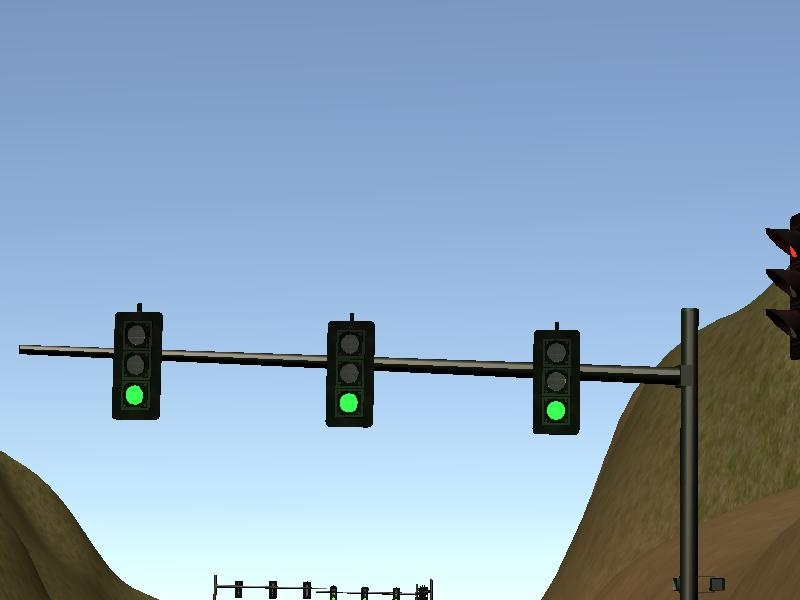green: (112, 312, 162, 420), (328, 323, 372, 429), (536, 329, 578, 432)
